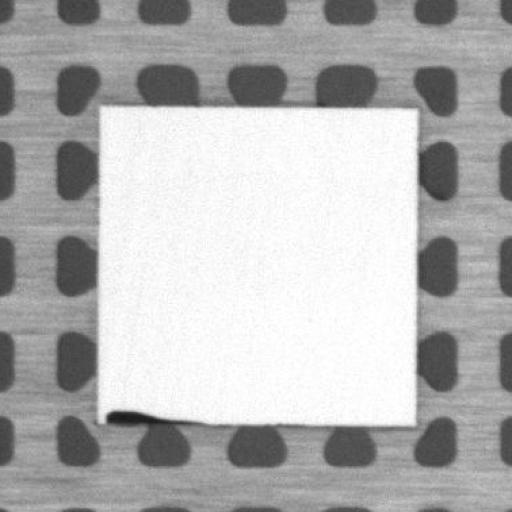DIE_BROKEN: (102, 404, 218, 431)
